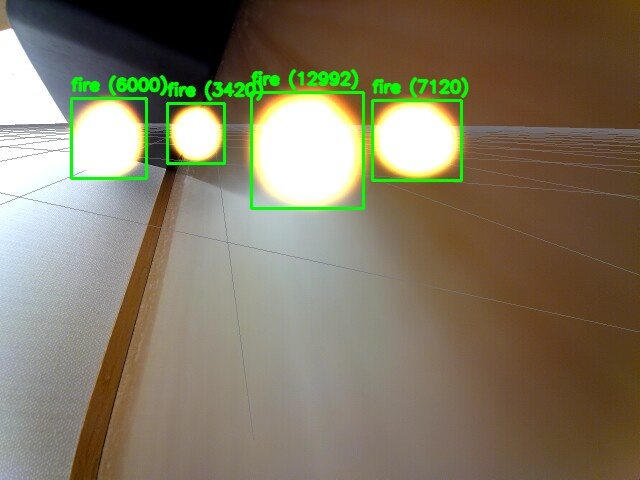fire: (251, 92, 363, 208), (372, 100, 461, 180), (71, 98, 146, 178), (167, 103, 224, 163)
